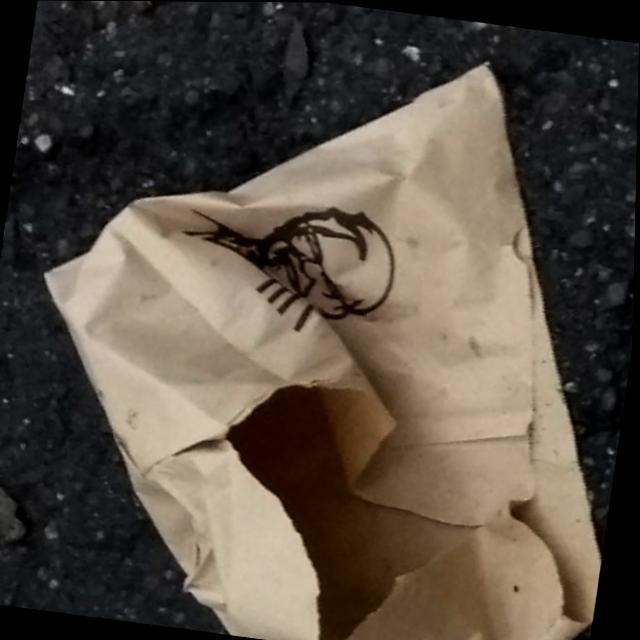Paper: (0, 2, 640, 640)
